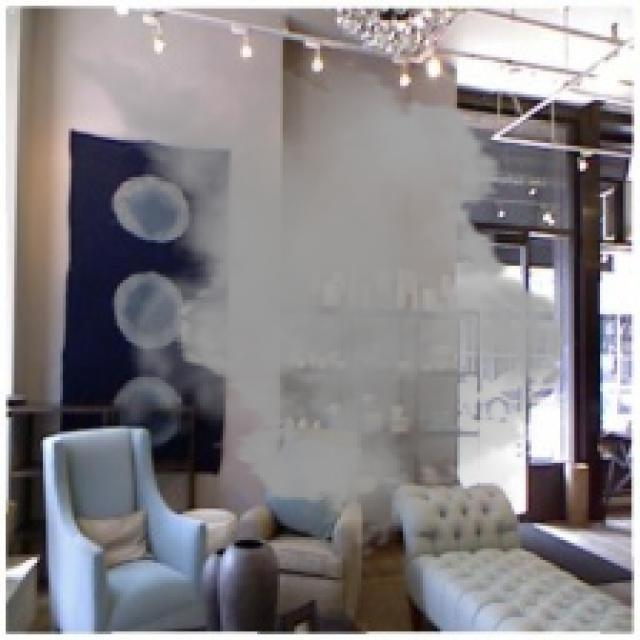Smoke: (37, 40, 580, 560)
